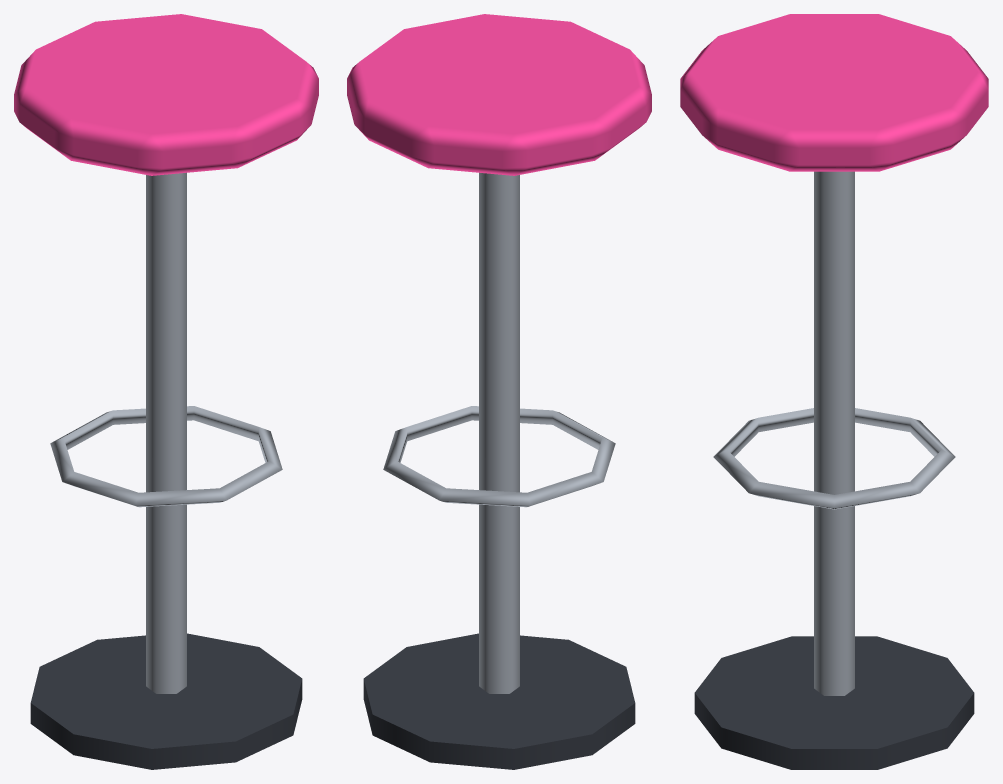
File: station_intake_ausstattung_3_0.glb
The picture shows the model from 3 angles, left to right: view 1: azimuth 30°, elevation 25°; view 2: azimuth 150°, elevation 25°; view 3: azimuth 270°, elevation 25°; orthographic projection.
Visible parts, largest first — view 1: station_intake_ausstattung_3_0; view 2: station_intake_ausstattung_3_0; view 3: station_intake_ausstattung_3_0.
Boxes of the visible parts, x1,y1,x2,y2 form: station_intake_ausstattung_3_0: (14, 14, 318, 769); station_intake_ausstattung_3_0: (347, 14, 651, 769); station_intake_ausstattung_3_0: (680, 14, 988, 769).
Bounding box in the file's own units: 0.3234 × 0.76 × 0.3307.
